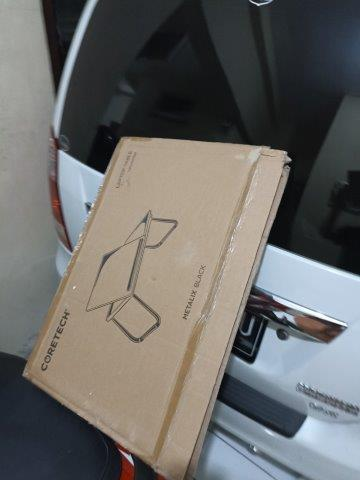kardus: (27, 138, 287, 476)
